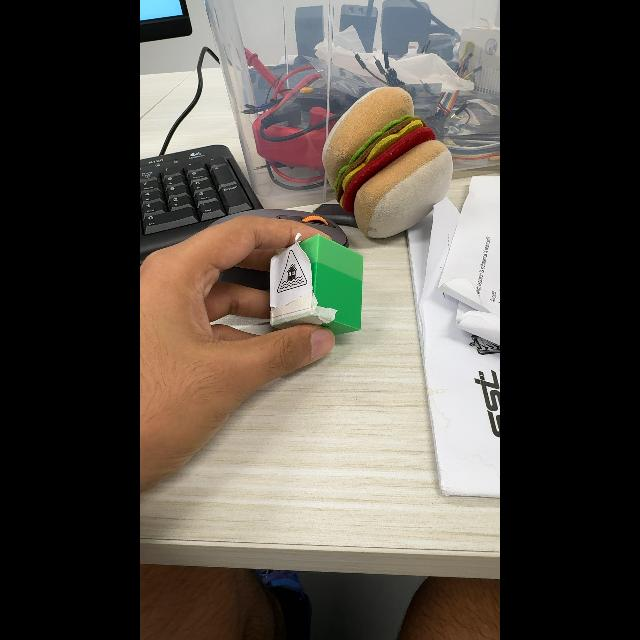Tsunami: (277, 251, 306, 292)
